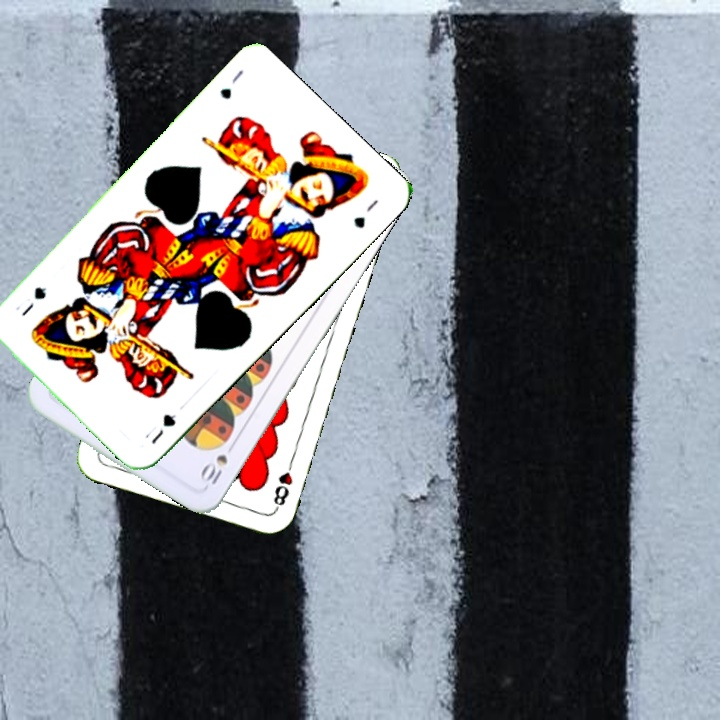GU: (146, 409, 179, 447), (216, 65, 246, 103)
H8: (269, 455, 296, 513)
S10: (197, 437, 237, 488)
